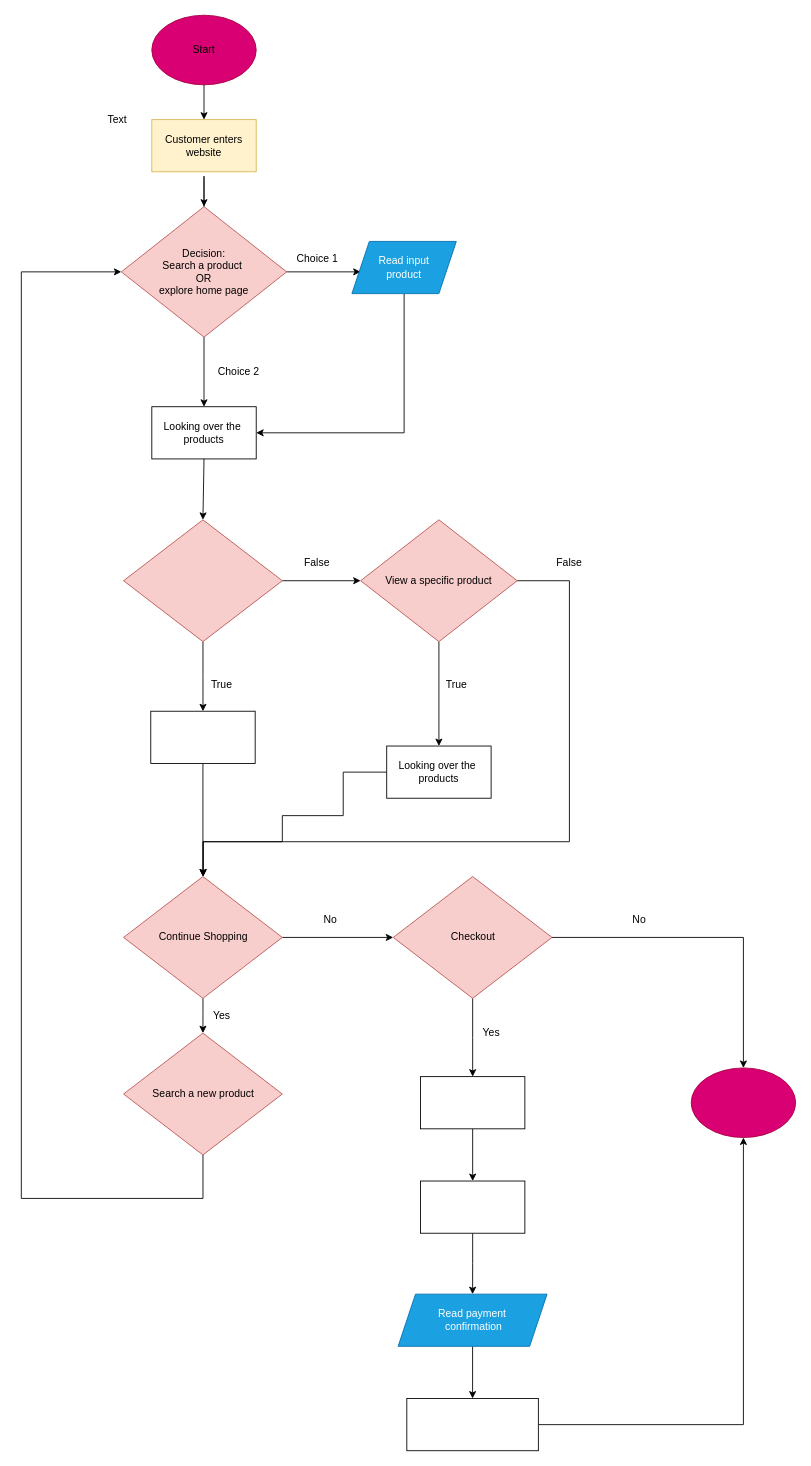
Image size: 811x1466. Some labels were removed from this diagram. Here are the shapes that lost their labels. From the top down, the centre of each, then its label:
At point (202, 580): "Add item to cart".
At point (202, 736): "Receive an added to cart confirmation".
At point (472, 1102): "View Cart Screen".
At point (743, 1102): "End".
At point (472, 1206): "View Payment Screen".
At point (472, 1424): "Order confirmation screen and receive an email".
